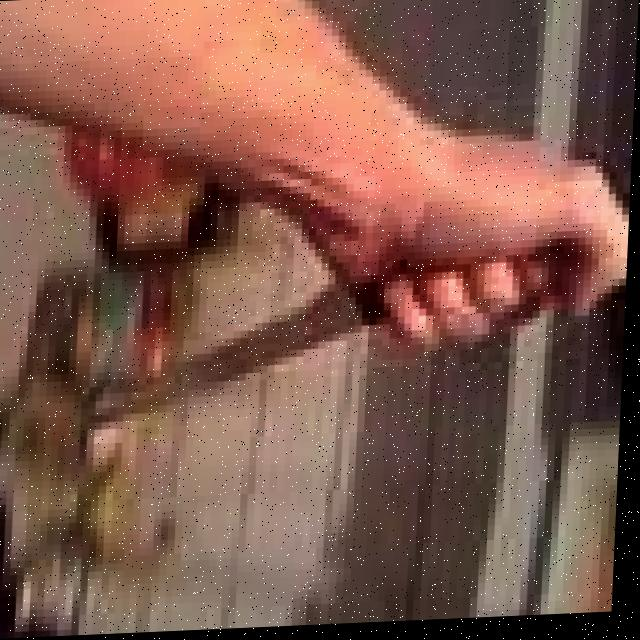knife: (98, 283, 391, 444)
